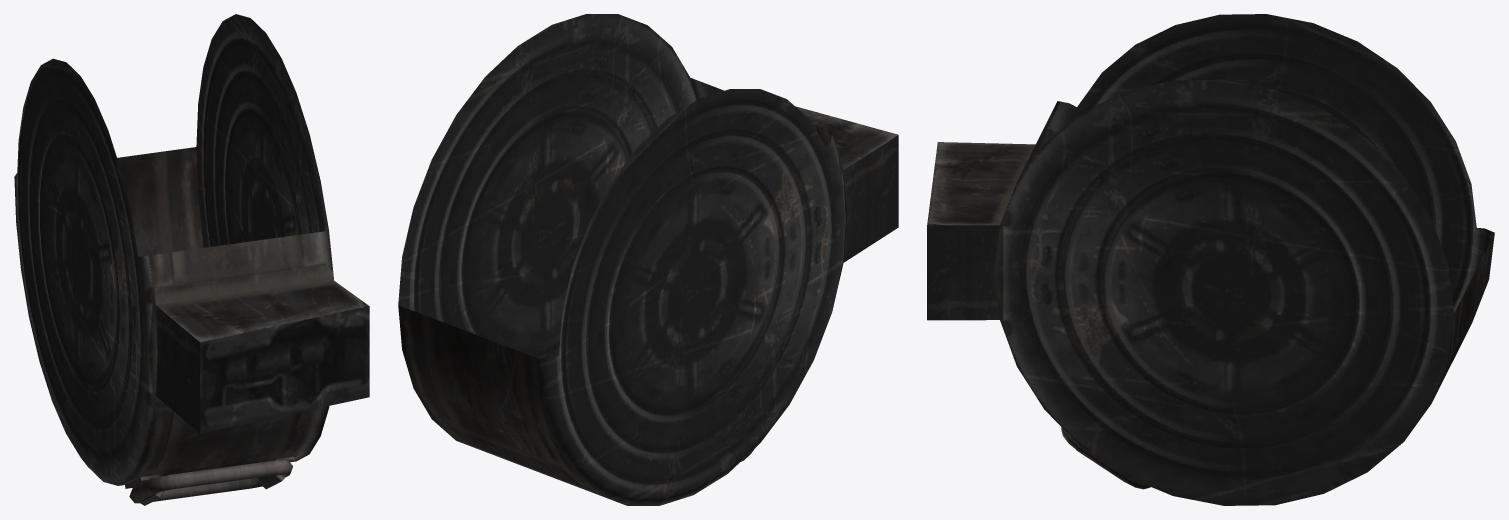
Rendered from t6_attach_mag_type95_lmg_view_LOD0.obj.
3 renders of one model, left to right at view 1: azimuth 30°, elevation 25°; view 2: azimuth 150°, elevation 25°; view 3: azimuth 270°, elevation 25°, orthographic. The views are drawn at different scales.
Parts seen in each view (by area): view 1: mtl_t6_wpn_lmg_type95_drum; view 2: mtl_t6_wpn_lmg_type95_drum; view 3: mtl_t6_wpn_lmg_type95_drum.
Part boxes in pixels (x1=…): mtl_t6_wpn_lmg_type95_drum: x1=14, y1=14, x2=369, y2=505; mtl_t6_wpn_lmg_type95_drum: x1=398, y1=14, x2=898, y2=505; mtl_t6_wpn_lmg_type95_drum: x1=927, y1=14, x2=1494, y2=505.
Bounding box in the file's own units: 9.21 × 15 × 17.79.
